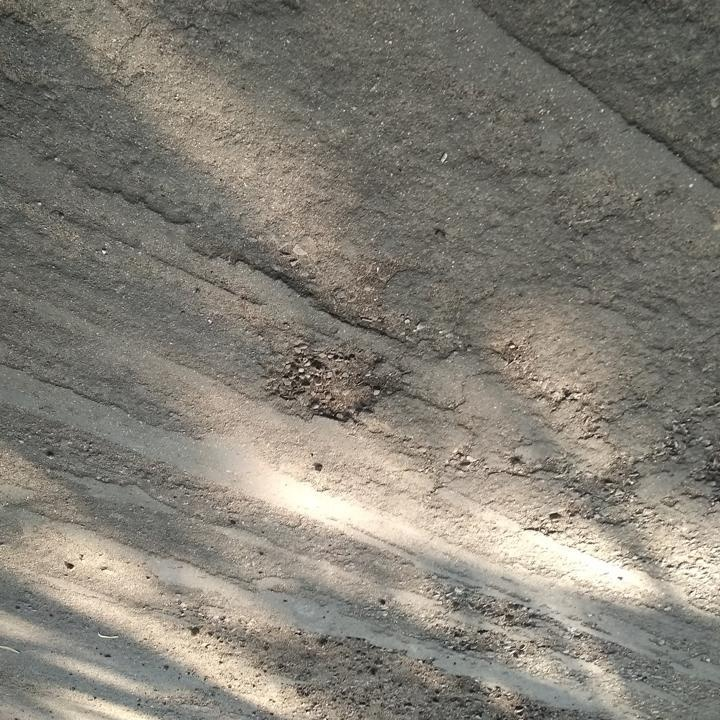pothole: (261, 345, 404, 426)
